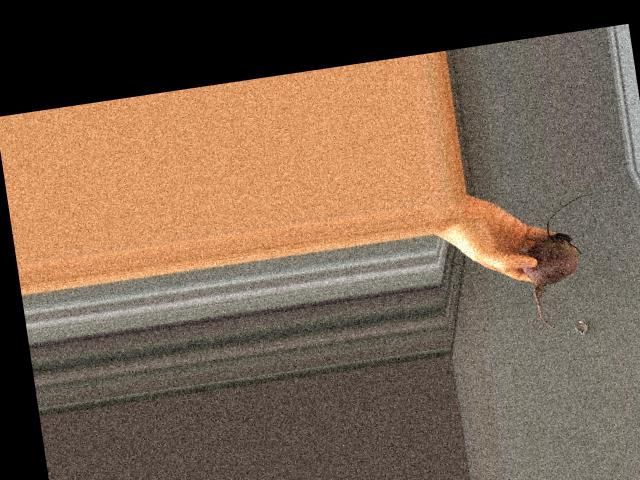beet: (513, 193, 611, 332)
